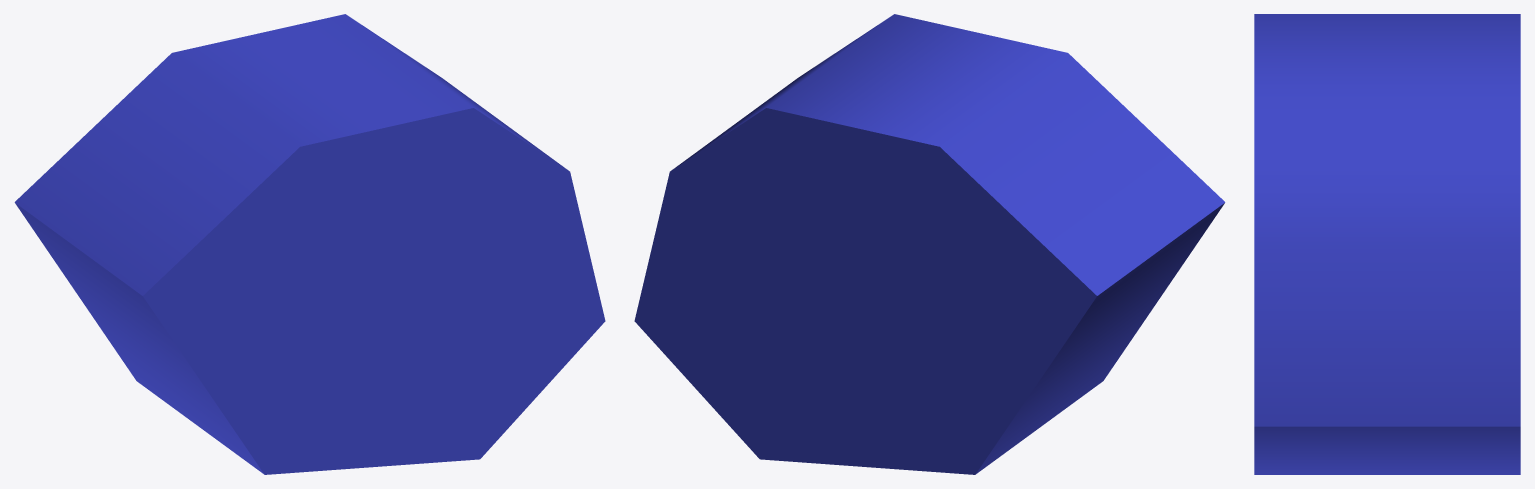
Rendered from coal6.fbx.
3 views of the same model, side by side, from view 1: azimuth 30°, elevation 25°; view 2: azimuth 150°, elevation 25°; view 3: azimuth 270°, elevation 25° (orthographic). The views are drawn at different scales.
Visible parts, largest first — view 1: root; view 2: root; view 3: root.
Part boxes in pixels (x1,y1,x2,y2): root: [14, 14, 605, 474]; root: [634, 14, 1225, 474]; root: [1254, 14, 1520, 474].
Bounding box in the file's own units: 0.1383 × 0.1018 × 0.0664.
